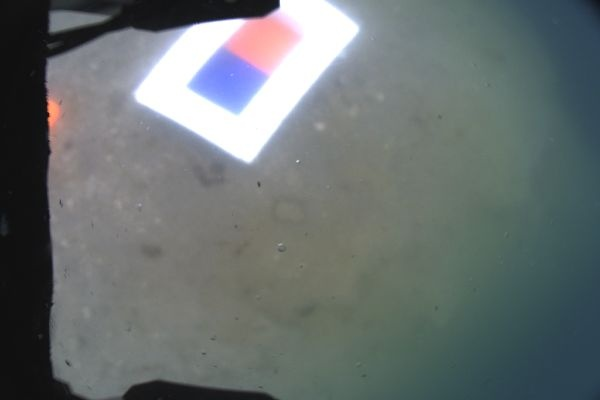bin: (134, 0, 360, 164)
bin_bleue: (189, 48, 268, 112)
bin_rouge: (223, 18, 299, 72)
path: (48, 100, 58, 128)
